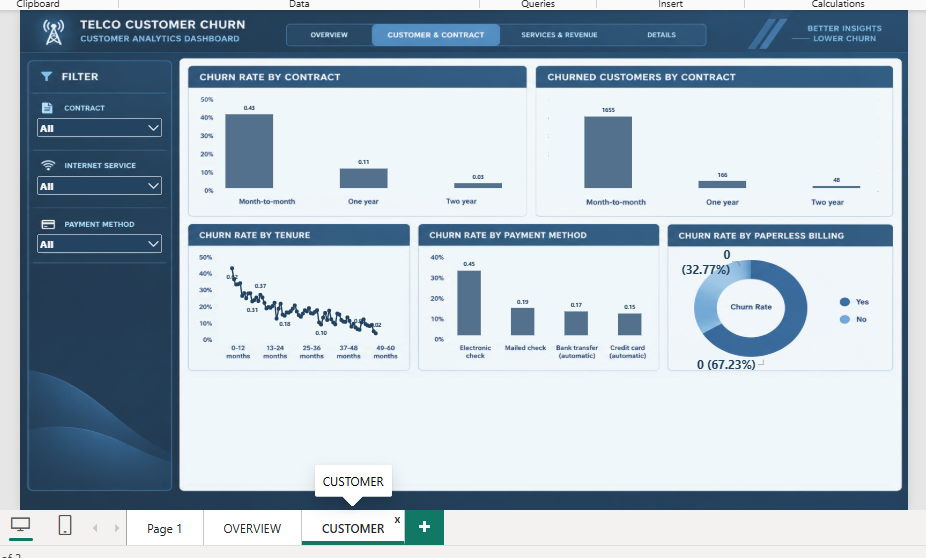

The dashboard page shown, as its layout file describes it:
{"tool":"powerbi","page":{"name":"CUSTOMER","canvas":[1920,1080],"ordinal":2},"visuals":[{"type":"columnChart","fields":{"Category":["Telco-Customer-Chur.Contract"],"Y":["Telco-Customer-Chur.CHURN RATE"]},"box":[426.7,175,650,226.7],"z":0},{"type":"columnChart","fields":{"Category":["Telco-Customer-Chur.Contract"],"Y":["Telco-Customer-Chur.CHURN CUSTOMER"]},"box":[1203.3,175,648.3,226.7],"z":1000},{"type":"shape","box":[1141.7,175,61.7,226.7],"z":2000},{"type":"lineChart","fields":{"Category":["Telco-Customer-Chur.tenure"],"Y":["Telco-Customer-Chur.CHURN RATE"]},"box":[426.7,516.7,401.7,203.3],"z":3000},{"type":"columnChart","fields":{"Category":["Telco-Customer-Chur.PaymentMethod"],"Y":["Telco-Customer-Chur.CHURN RATE"]},"box":[928.3,516.7,436.7,203.3],"z":4000},{"type":"donutChart","fields":{"Category":["Telco-Customer-Chur.PaperlessBilling"],"Y":["Telco-Customer-Chur.CHURN RATE"]},"box":[1340,490,535,303.3],"z":5000},{"type":"shape","box":[356.4,792.7,1542.2,231.1],"z":6000},{"type":"slicer","fields":{"Values":["Telco-Customer-Chur.Contract"]},"box":[32.4,229,278.6,58.3],"z":7000},{"type":"slicer","fields":{"Values":["Telco-Customer-Chur.InternetService"]},"box":[32.4,354.2,278.6,64.8],"z":8000},{"type":"slicer","fields":{"Values":["Telco-Customer-Chur.PaymentMethod"]},"box":[32.4,479.5,278.6,71.3],"z":9000}]}

Visuals, with their boxes on the page's 1920x1080 design canvas (x1, y1, x2, y2). These are canvas units, not pixel positions in the 926x558 screenshot, which may show the page scaled, cropped or inside an application window:
columnChart - Telco-Customer-Chur.Contract x Telco-Customer-Chur.CHURN RATE: [x1=427, y1=175, x2=1077, y2=402]
columnChart - Telco-Customer-Chur.Contract x Telco-Customer-Chur.CHURN CUSTOMER: [x1=1203, y1=175, x2=1852, y2=402]
shape: [x1=1142, y1=175, x2=1203, y2=402]
lineChart - Telco-Customer-Chur.tenure x Telco-Customer-Chur.CHURN RATE: [x1=427, y1=517, x2=828, y2=720]
columnChart - Telco-Customer-Chur.PaymentMethod x Telco-Customer-Chur.CHURN RATE: [x1=928, y1=517, x2=1365, y2=720]
donutChart - Telco-Customer-Chur.PaperlessBilling x Telco-Customer-Chur.CHURN RATE: [x1=1340, y1=490, x2=1875, y2=793]
shape: [x1=356, y1=793, x2=1899, y2=1024]
slicer - Telco-Customer-Chur.Contract: [x1=32, y1=229, x2=311, y2=287]
slicer - Telco-Customer-Chur.InternetService: [x1=32, y1=354, x2=311, y2=419]
slicer - Telco-Customer-Chur.PaymentMethod: [x1=32, y1=480, x2=311, y2=551]
